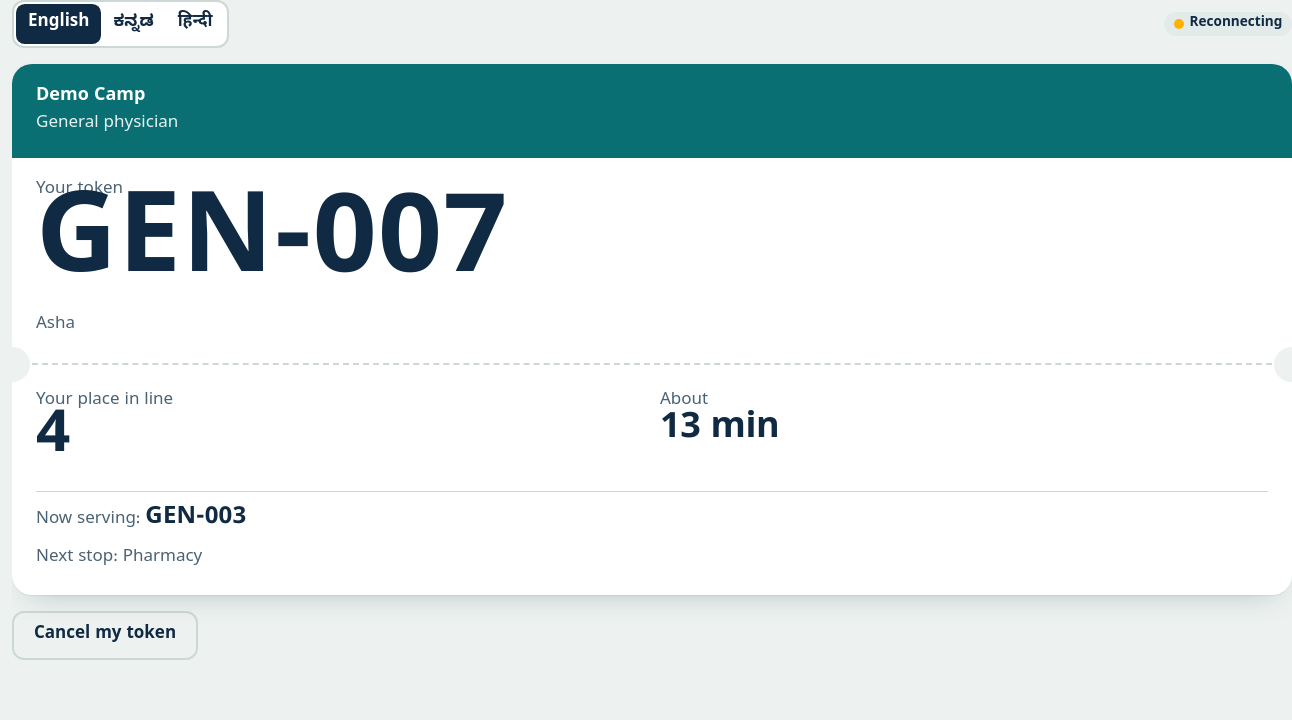
Test: TokenTracker › switches to Kannada
Click the button "ಕನ್ನಡ": (134, 24) [102,4,166,44]
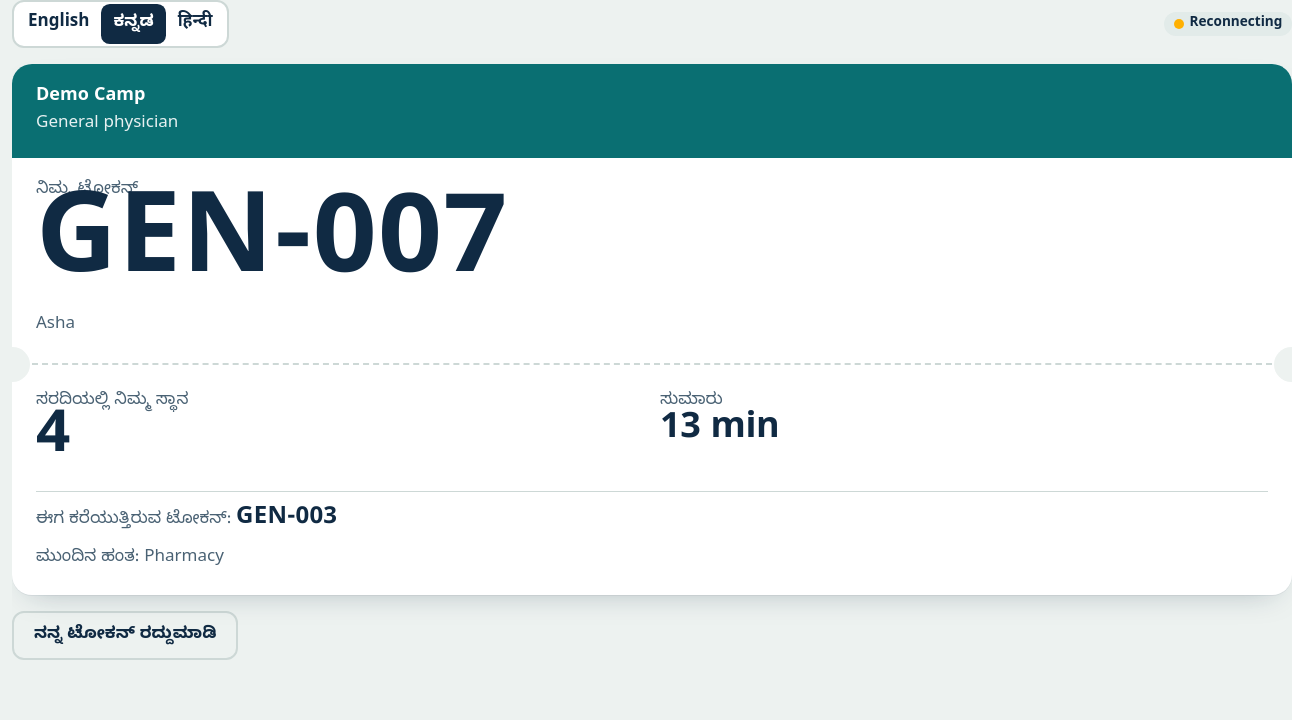
Check: the text "ಸರದಿಯಲ್ಲಿ ನಿಮ್ಮ ಸ್ಥಾನ" is shown, box [36,390,189,413]
